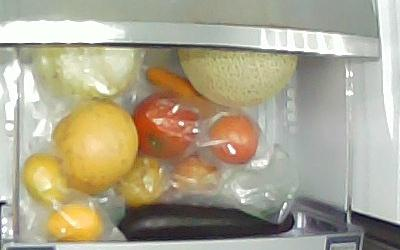cabbage: (31, 45, 141, 97)
carrot: (143, 64, 225, 117)
eggplant: (112, 202, 295, 241)
melon: (175, 46, 298, 107)
pear: (49, 96, 139, 192)
prune_vinyl: (206, 113, 258, 164), (170, 155, 220, 188)
tangerine_vinyl: (112, 152, 166, 207), (21, 150, 69, 208), (46, 201, 104, 242)
tomato_vinyl: (130, 89, 200, 159)
